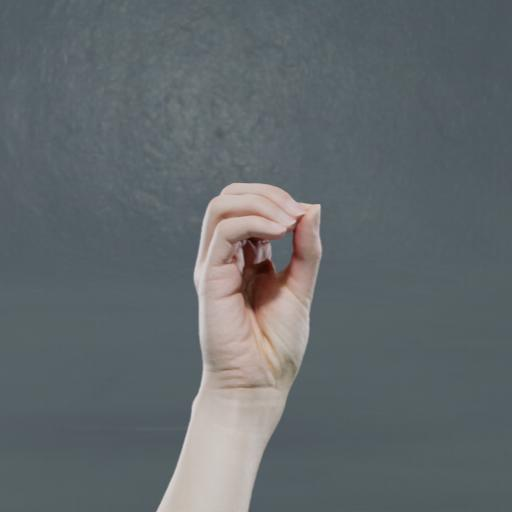O: (179, 174, 340, 400)
